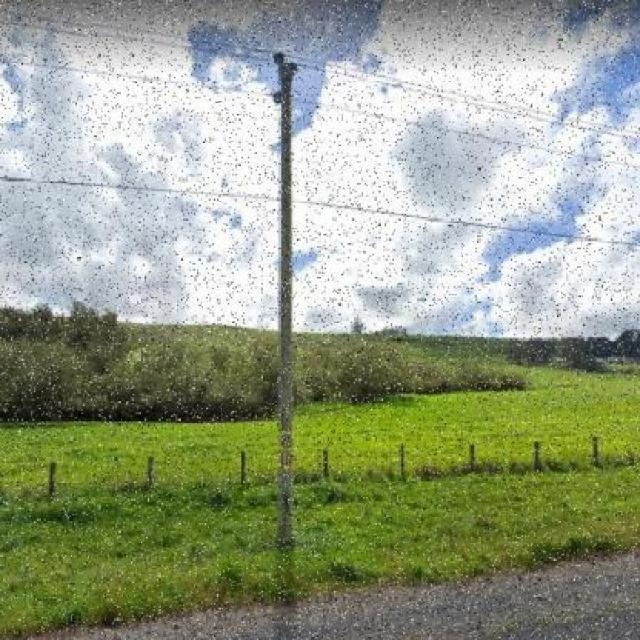pole: (228, 24, 344, 570)
